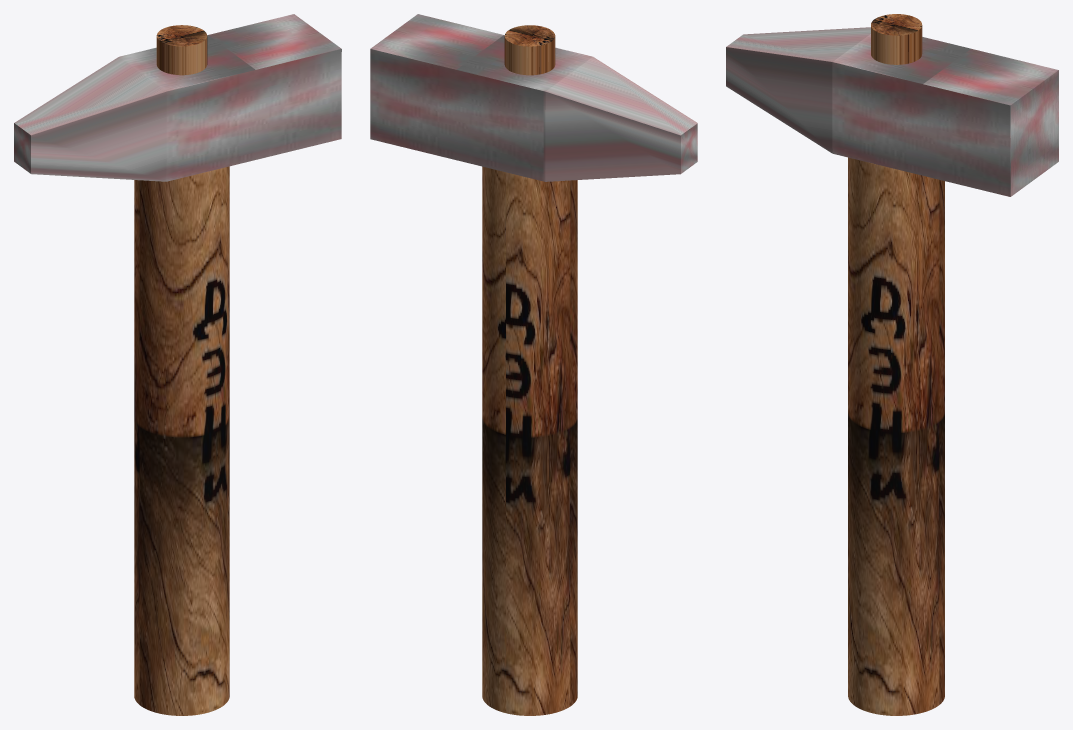
Rendered from hammer.glb.
3 views of the same model, side by side, from view 1: azimuth 30°, elevation 25°; view 2: azimuth 150°, elevation 25°; view 3: azimuth 330°, elevation 25° (orthographic).
Parts seen in each view (by area): view 1: Цилиндр, Куб; view 2: Цилиндр, Куб; view 3: Цилиндр, Куб.
Part boxes in pixels (bbox=[...]): Цилиндр: bbox=[134, 25, 229, 715]; Куб: bbox=[14, 14, 341, 181]; Цилиндр: bbox=[482, 25, 577, 715]; Куб: bbox=[370, 14, 697, 181]; Цилиндр: bbox=[848, 14, 944, 715]; Куб: bbox=[726, 27, 1058, 196].
Bounding box in the file's own units: 0.1428 × 0.305 × 0.04.
2 materials, 2 textured.
